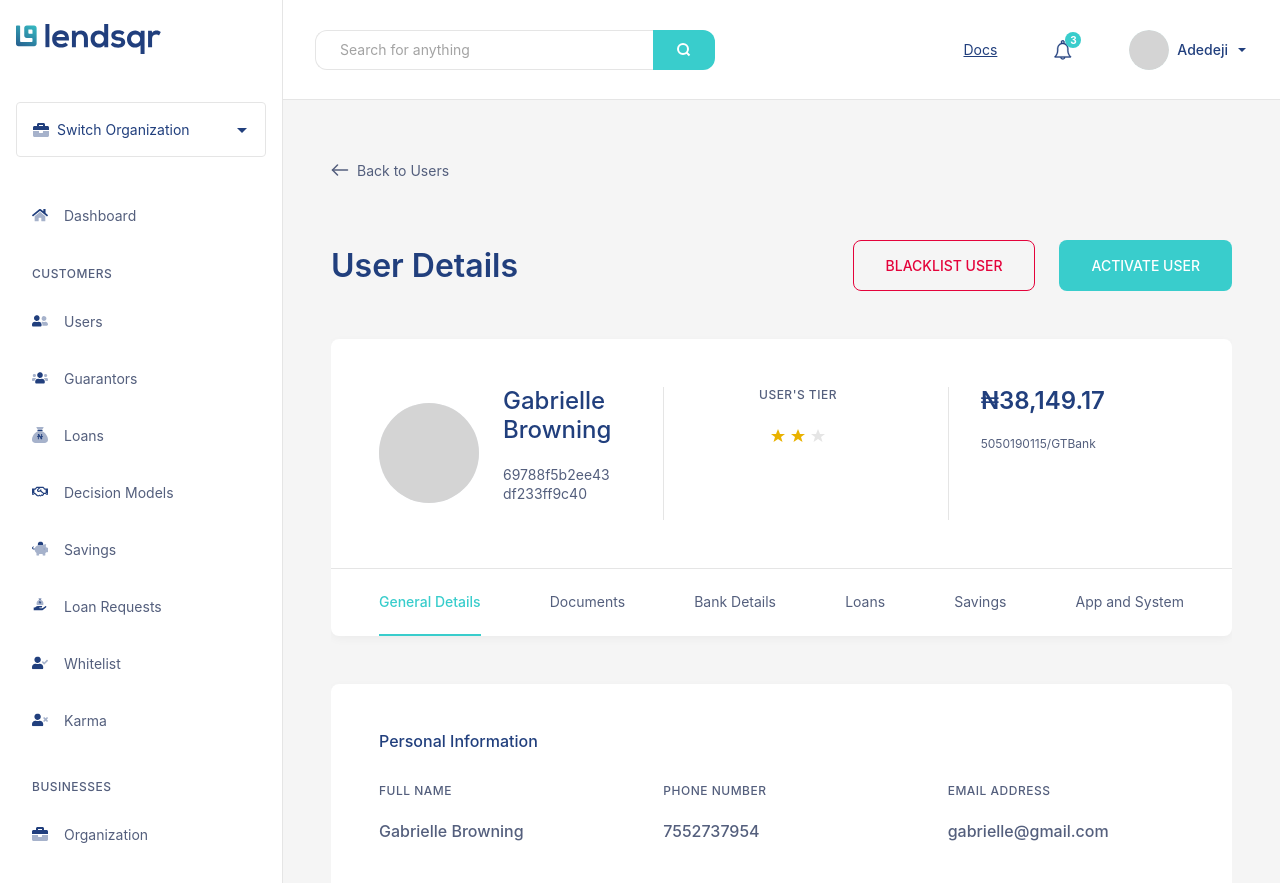
Test: UserDetails Page › should blacklist user when blacklist button is clicked
Expected: the heading "Gabrielle Browning" is shown, [503,387,615,445]
What coordinates should you click on to do the following:
click the button "BLACKLIST USER"
I would click on:
 (944, 266)
Its box is [853,240,1036,291].
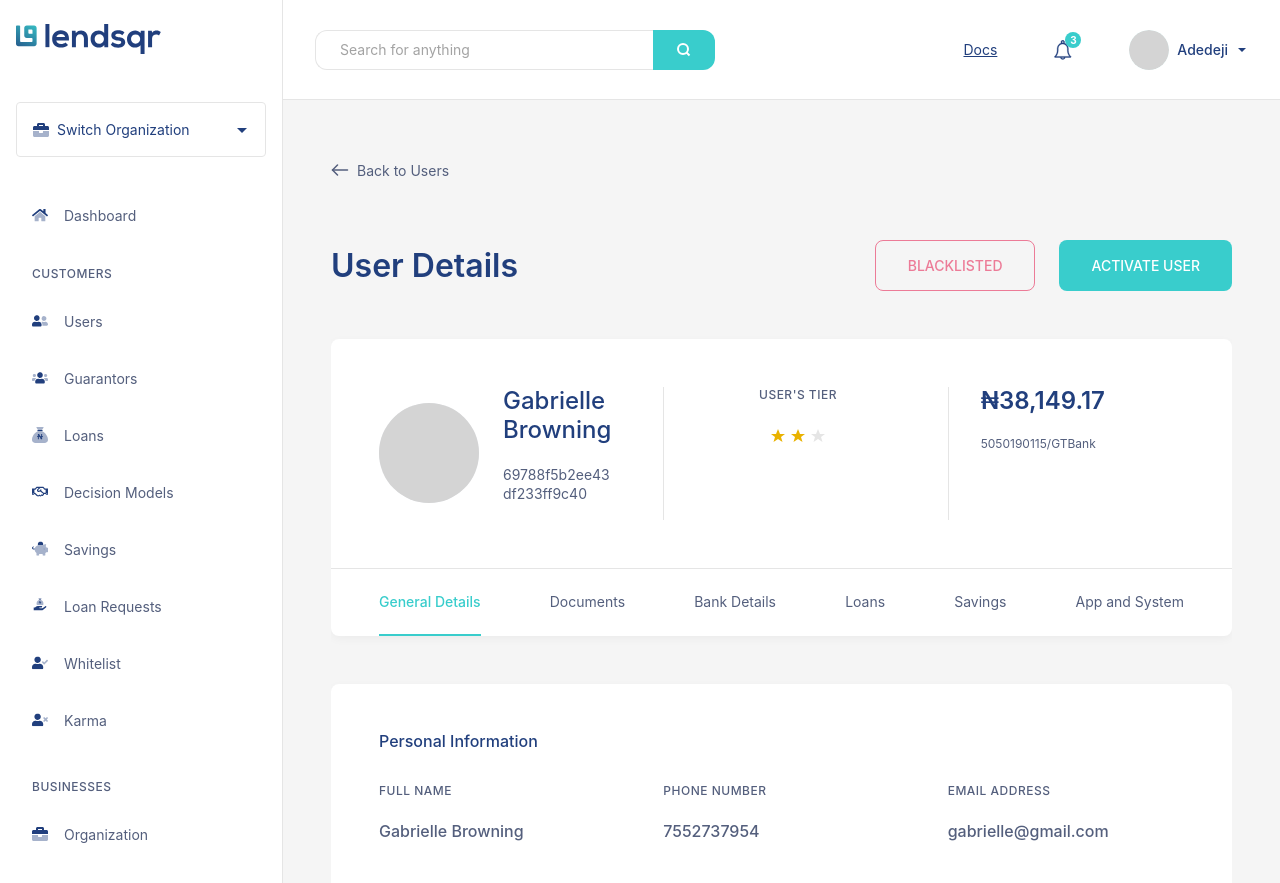
Now the button "BLACKLISTED" is disabled, box [875,240,1036,291]
